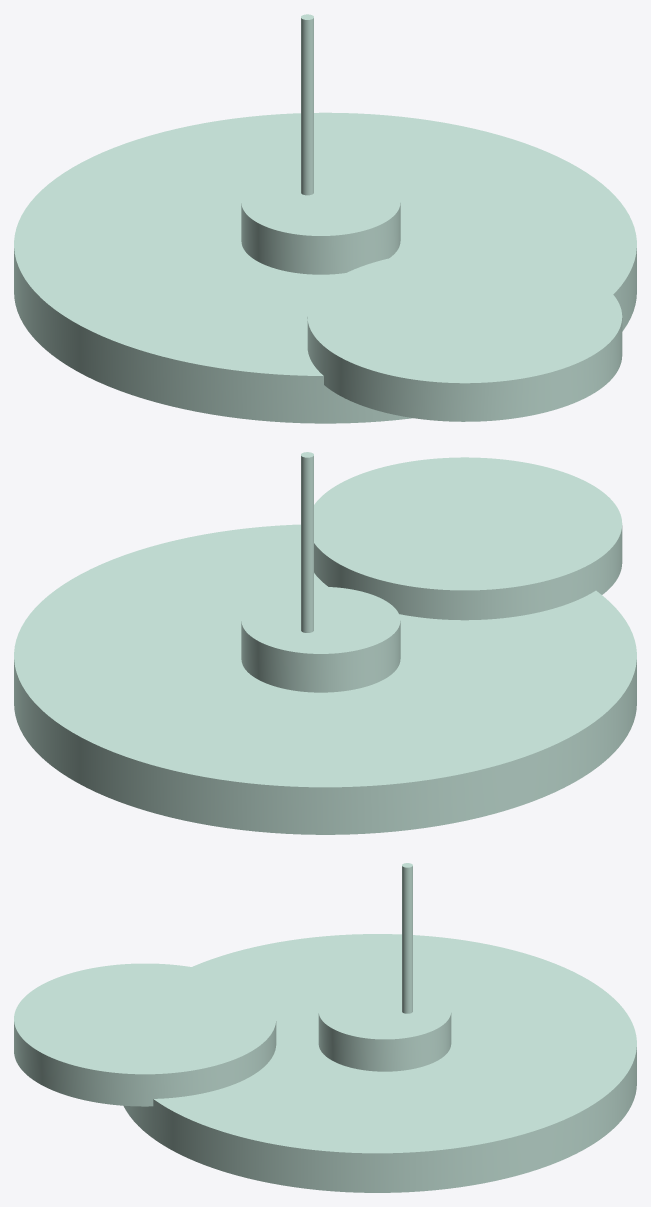
3 views of the same model, one above another, from view 1: azimuth 30°, elevation 25°; view 2: azimuth 150°, elevation 25°; view 3: azimuth 270°, elevation 25° (orthographic). The views are drawn at different scales.
Visible parts, largest first — view 1: Renderer Node; view 2: Renderer Node; view 3: Renderer Node.
Part boxes in pixels (left/top/right/bottom): Renderer Node: left=14, top=14, right=636, bottom=423; Renderer Node: left=14, top=452, right=636, bottom=834; Renderer Node: left=14, top=863, right=636, bottom=1192.
Bounding box in the file's own units: 1.48 × 0.6875 × 1.78.
